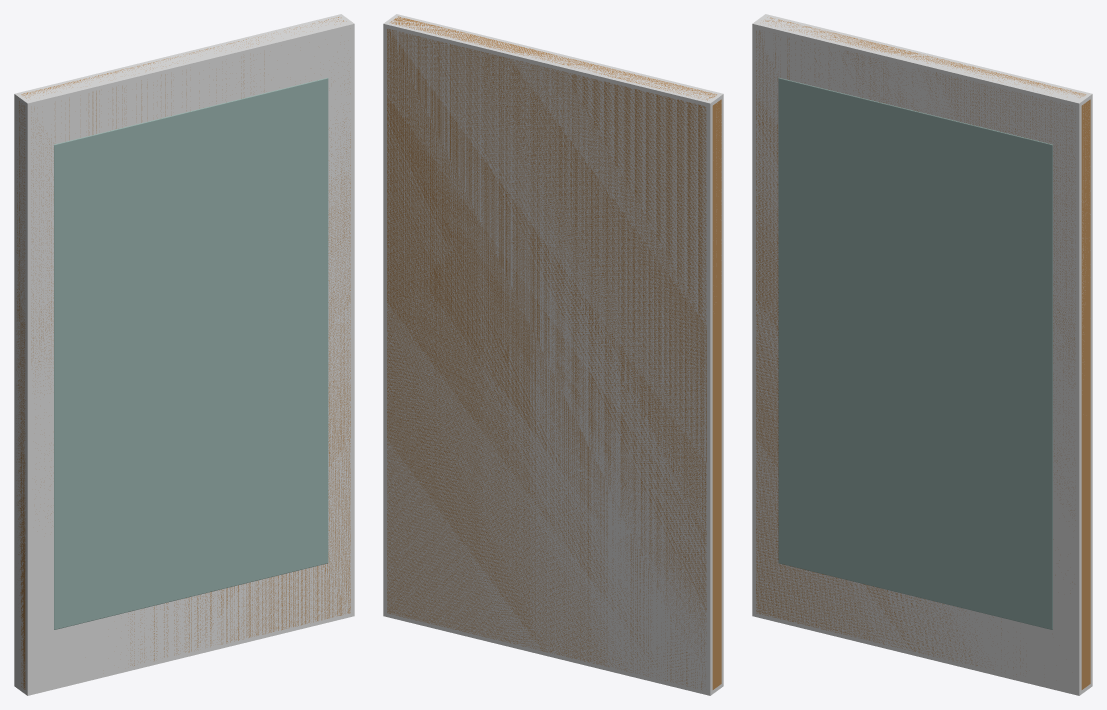
File: mirror_retail.glb
3 renders of one model, left to right at view 1: azimuth 30°, elevation 25°; view 2: azimuth 150°, elevation 25°; view 3: azimuth 330°, elevation 25°, orthographic.
Parts seen in each view (by area): view 1: MESH_Inset, COL_mirror, MESH_Frame; view 2: COL_mirror, MESH_Frame; view 3: MESH_Inset, COL_mirror, MESH_Frame.
Boxes of the visible parts, box(x1,y1,x2,y2) form: MESH_Inset: box(54, 78, 328, 629); COL_mirror: box(14, 14, 354, 695); MESH_Frame: box(16, 17, 350, 689); COL_mirror: box(383, 14, 723, 695); MESH_Frame: box(387, 16, 721, 689); MESH_Inset: box(778, 78, 1052, 629); COL_mirror: box(752, 14, 1092, 695); MESH_Frame: box(756, 17, 1090, 689).
Size of the model in its own units: 0.78 by 1.35 by 0.0561.
